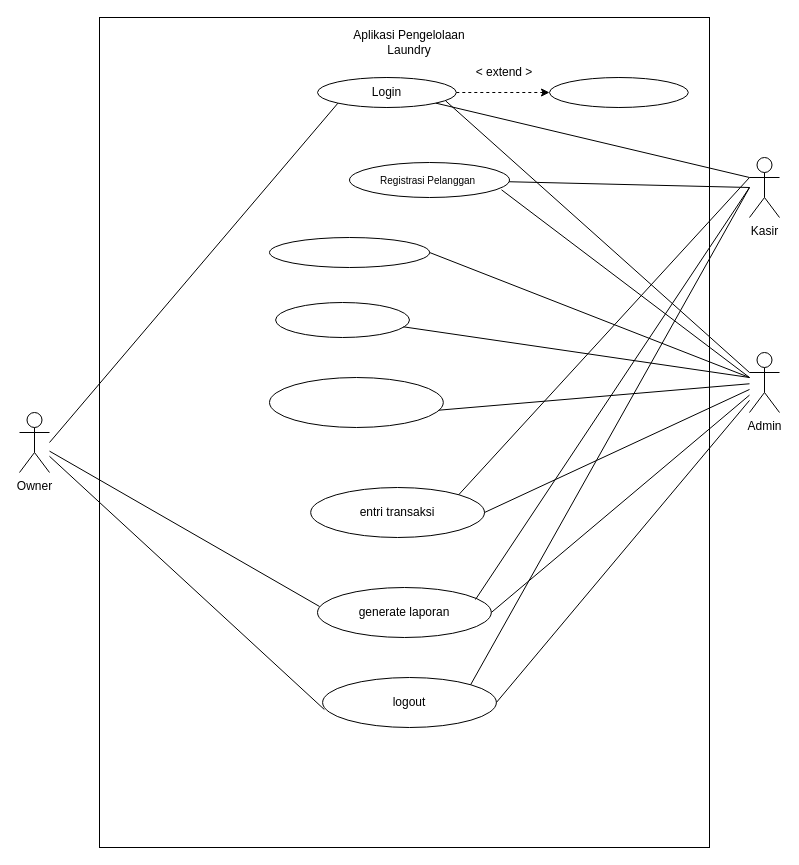
This 799x865 diagram has some shape labels left out. Here are the shapes that lost their labels. From the top down, the centre of each, then its label:
At [618,92]: "Registrasi Akun".
At [349,252]: "CRUD Outlet".
At [342,320]: "CRUD produk/paket cucian".
At [355,402]: "CRUD pengguna".
